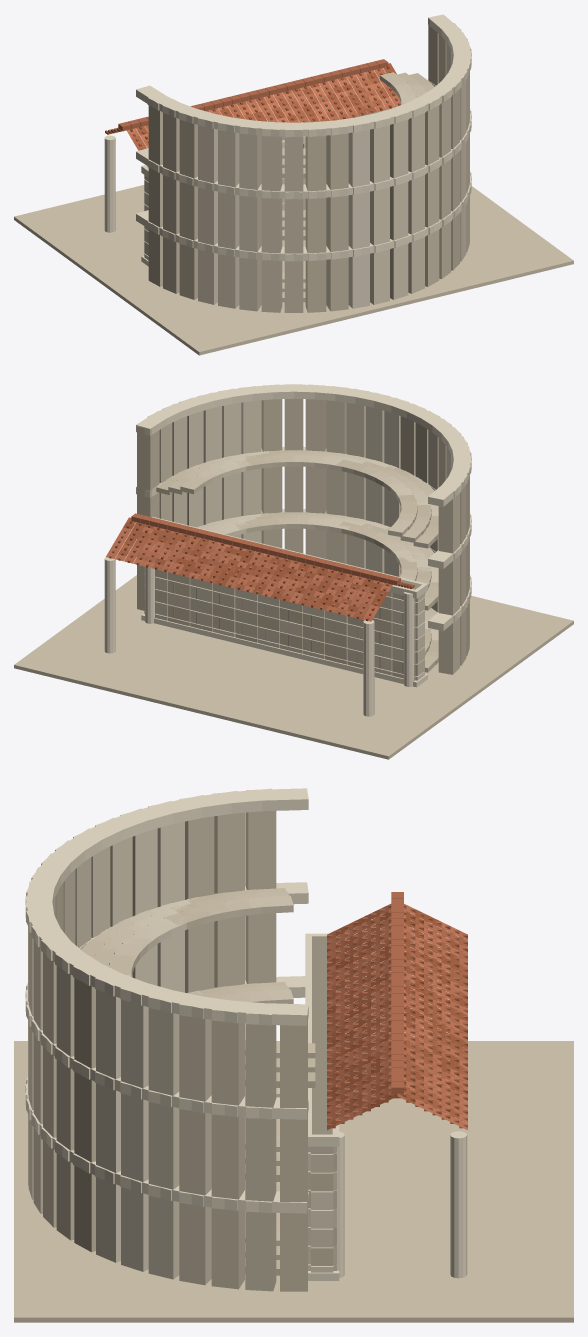
The picture shows the model from 3 angles, top to bottom: view 1: azimuth 30°, elevation 25°; view 2: azimuth 150°, elevation 25°; view 3: azimuth 270°, elevation 25°; orthographic projection. The views are drawn at different scales.
Visible parts, largest first — view 1: Bergfried – Steine, Säulen, Ziegel und Feuerstelle; view 2: Bergfried – Steine, Säulen, Ziegel und Feuerstelle; view 3: Bergfried – Steine, Säulen, Ziegel und Feuerstelle.
Boxes of the visible parts, left/top/right/bottom form: Bergfried – Steine, Säulen, Ziegel und Feuerstelle: left=14, top=14, right=573, bottom=355; Bergfried – Steine, Säulen, Ziegel und Feuerstelle: left=14, top=384, right=573, bottom=759; Bergfried – Steine, Säulen, Ziegel und Feuerstelle: left=14, top=788, right=573, bottom=1322.
Bounding box in the file's own units: 1390 × 662 × 1190.
